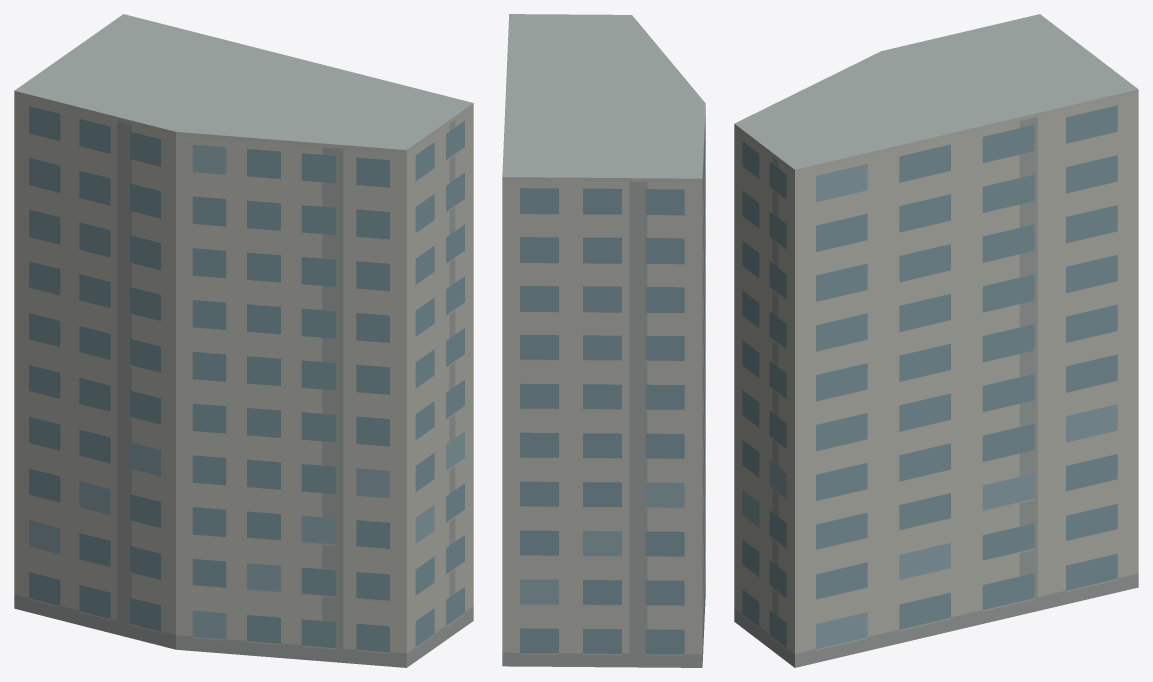
Rendered from residential-378145b6-3b8c-4efe-9825-8734ddcf02dc.glb.
3 renders of one model, left to right at view 1: azimuth 30°, elevation 25°; view 2: azimuth 150°, elevation 25°; view 3: azimuth 270°, elevation 25°, orthographic. The views are drawn at different scales.
Parts seen in each view (by area): view 1: residential-378145b6-3b8c-4efe-9825-8734ddcf02dc.tmp; view 2: residential-378145b6-3b8c-4efe-9825-8734ddcf02dc.tmp; view 3: residential-378145b6-3b8c-4efe-9825-8734ddcf02dc.tmp.
Part boxes in pixels (x1=…): residential-378145b6-3b8c-4efe-9825-8734ddcf02dc.tmp: x1=14, y1=14, x2=473, y2=667; residential-378145b6-3b8c-4efe-9825-8734ddcf02dc.tmp: x1=502, y1=14, x2=705, y2=667; residential-378145b6-3b8c-4efe-9825-8734ddcf02dc.tmp: x1=734, y1=14, x2=1138, y2=667.
Size of the model in its own units: 21.48 by 32 by 23.55.
